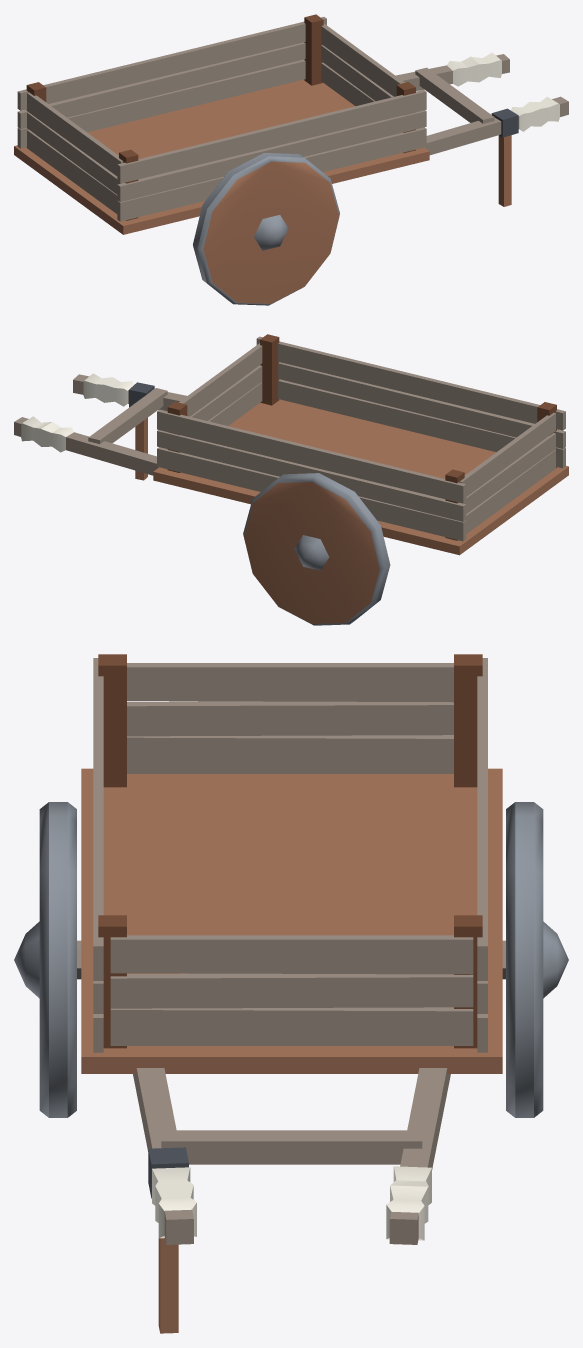
File: carroca_pacote.glb
3 renders of one model, top to bottom at view 1: azimuth 30°, elevation 25°; view 2: azimuth 150°, elevation 25°; view 3: azimuth 270°, elevation 25°, orthographic. The views are drawn at different scales.
Parts seen in each view (by area): view 1: carroca_pacote; view 2: carroca_pacote; view 3: carroca_pacote.
Part boxes in pixels (bbox=[...]): carroca_pacote: bbox=[14, 14, 568, 305]; carroca_pacote: bbox=[14, 334, 568, 625]; carroca_pacote: bbox=[14, 654, 568, 1333].
Bounding box in the file's own units: 3.35 × 1.16 × 1.78.
Materials: 1 (1 with a texture image).
